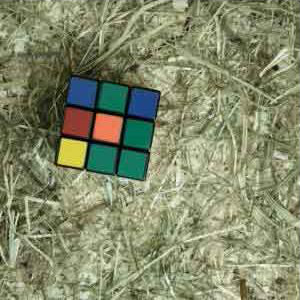rubik: (56, 76, 160, 182)
